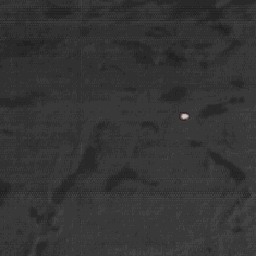Target: (180, 113, 189, 121)
